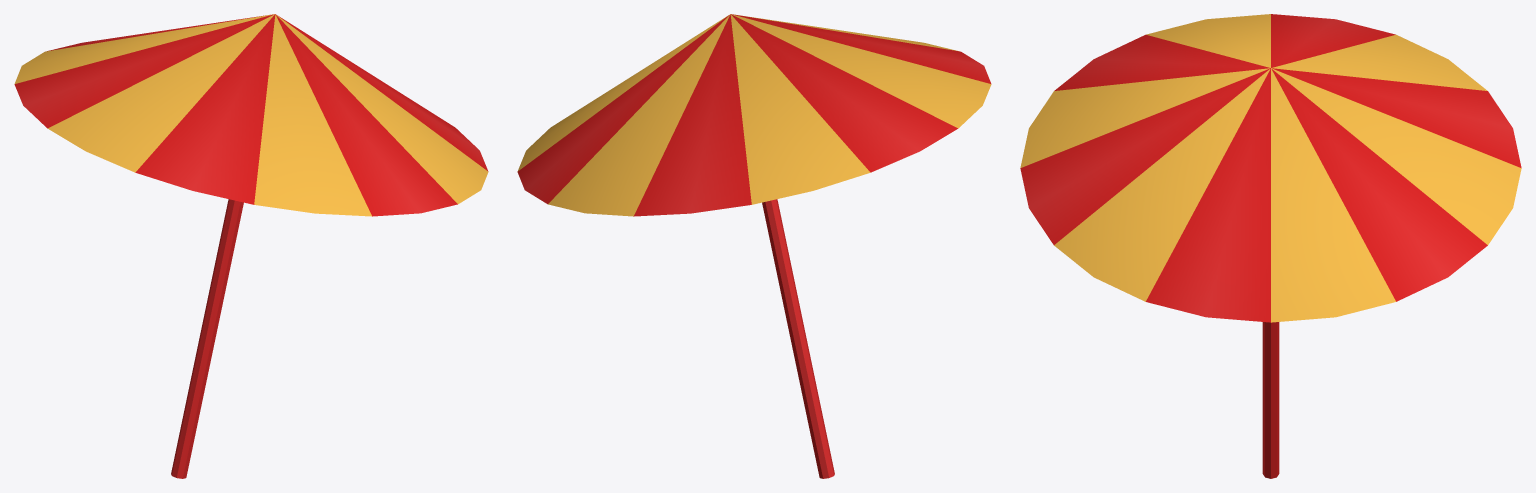
Rendered from Umbrella.fbx.
3 renders of one model, left to right at view 1: azimuth 30°, elevation 25°; view 2: azimuth 150°, elevation 25°; view 3: azimuth 270°, elevation 25°, orthographic. The views are drawn at different scales.
Visible parts, largest first — view 1: Circle; view 2: Circle; view 3: Circle.
Part boxes in pixels (left/top/right/bottom): Circle: left=14, top=14, right=488, bottom=478; Circle: left=517, top=14, right=991, bottom=478; Circle: left=1020, top=14, right=1521, bottom=478.
Size of the model in its own units: 475 by 489 by 487.
